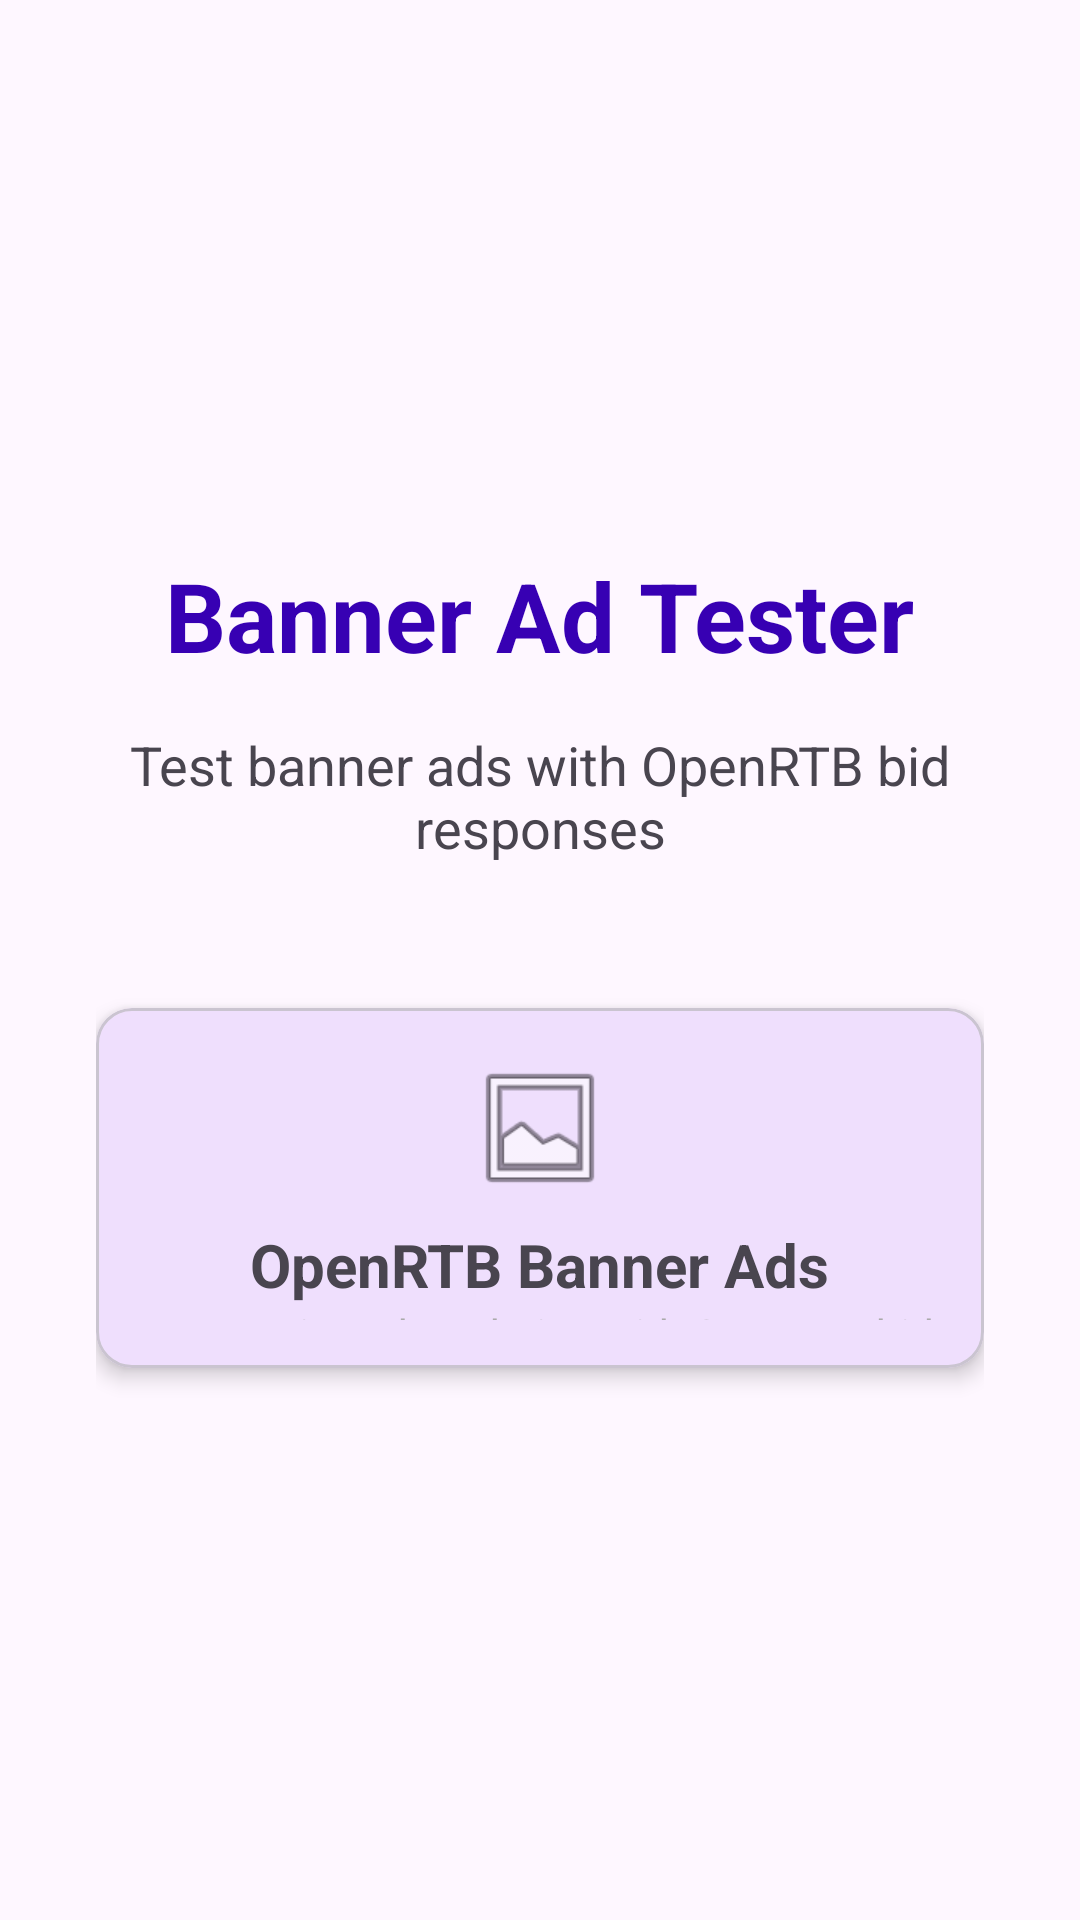

Where to tap for icons on this 1080×1920 app screen, as point (x, y):
gallery: point (540, 1128)
